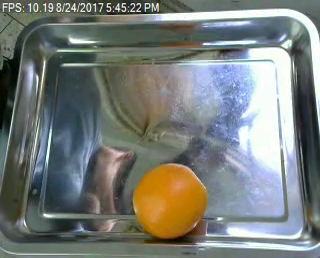Orange: (132, 162, 208, 238)
